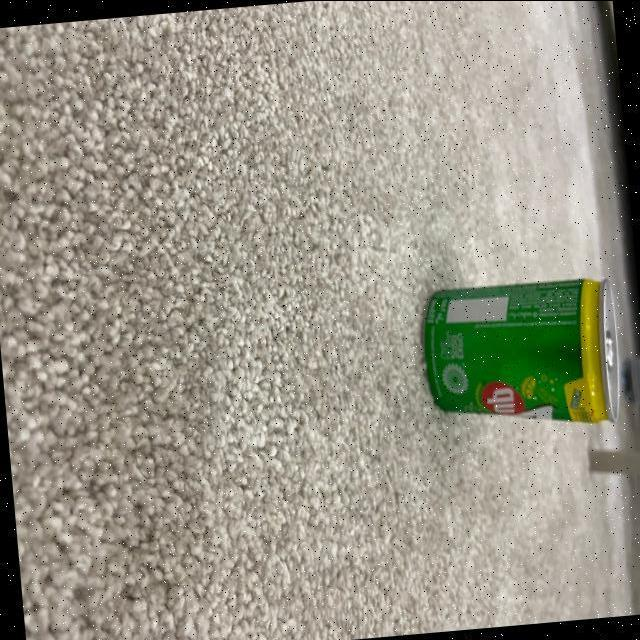can: (415, 264, 630, 444)
